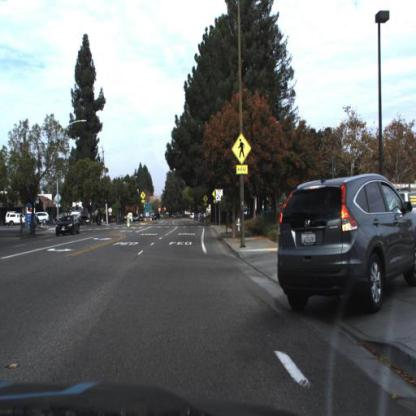car: (276, 174, 416, 320), (52, 211, 83, 240), (32, 206, 53, 226), (53, 207, 71, 224)
truck: (66, 193, 84, 224)
